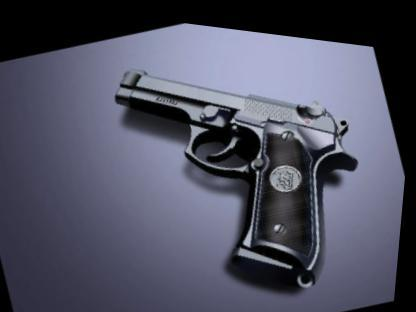pistol: (84, 10, 406, 311)
